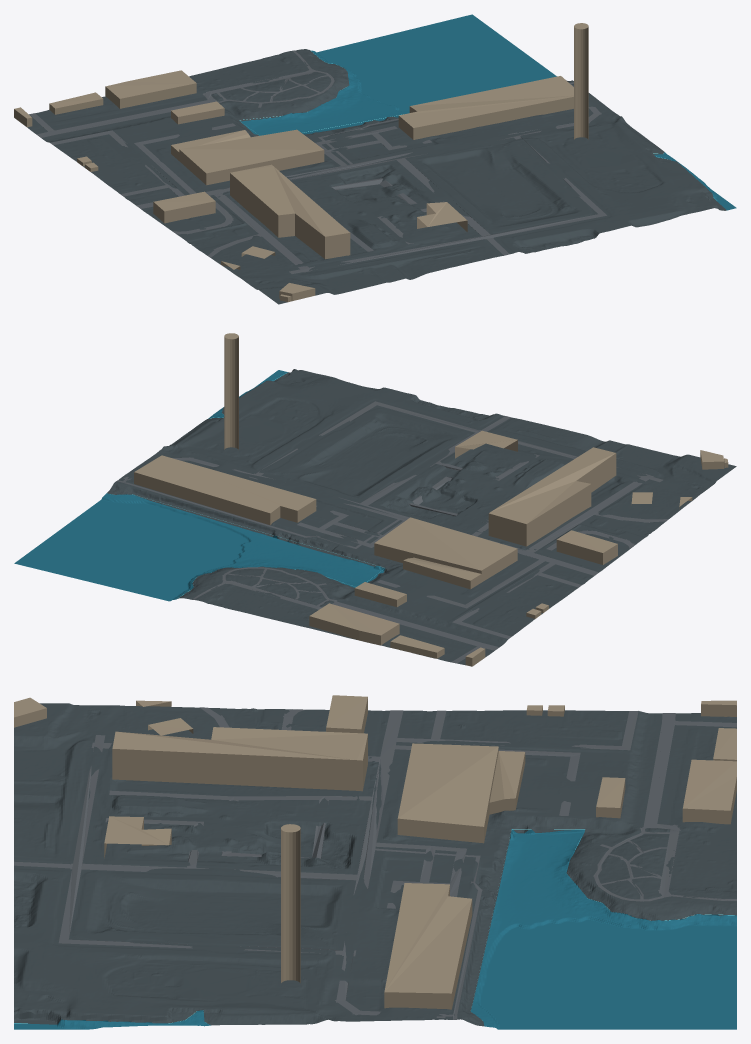
The model's file is epsg26910-1443-10882.lod0.glb.
3 views of the same model, one above another, from view 1: azimuth 30°, elevation 25°; view 2: azimuth 150°, elevation 25°; view 3: azimuth 270°, elevation 25° (orthographic). The views are drawn at different scales.
Parts seen in each view (by area): view 1: epsg26910-1443-10882-lod0; view 2: epsg26910-1443-10882-lod0; view 3: epsg26910-1443-10882-lod0.
Boxes of the visible parts, x1,y1,x2,y2 form: epsg26910-1443-10882-lod0: (14, 14, 736, 304); epsg26910-1443-10882-lod0: (14, 333, 736, 666); epsg26910-1443-10882-lod0: (14, 695, 736, 1029).
Size of the model in its own units: 384 by 97.05 by 384.
